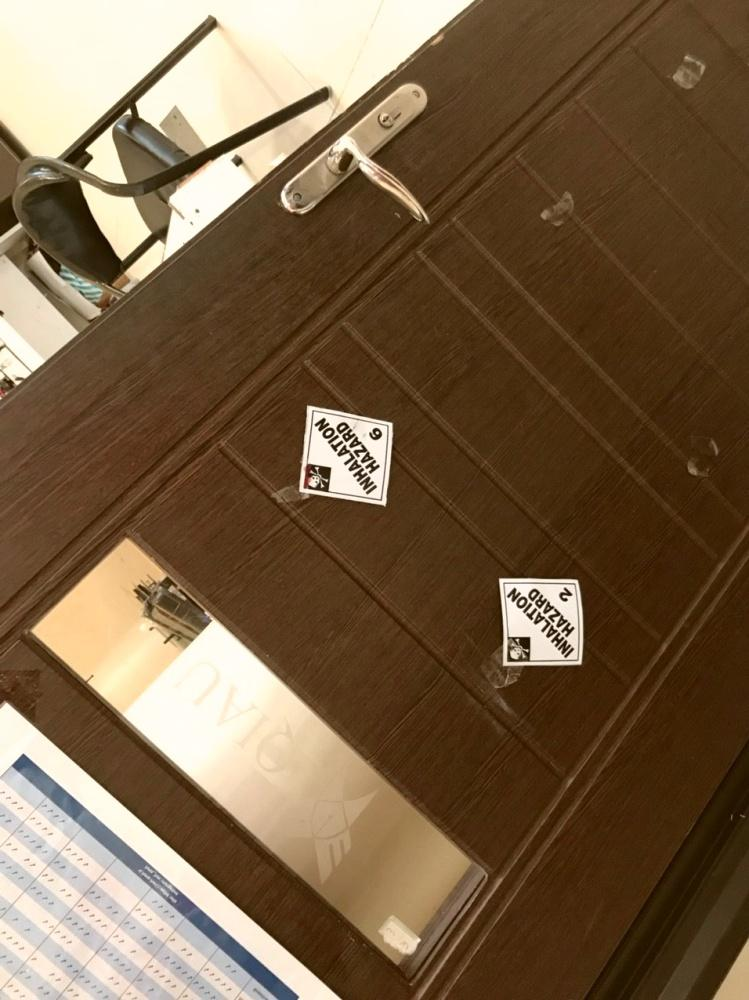poison: (300, 403, 395, 505), (495, 577, 581, 665)
